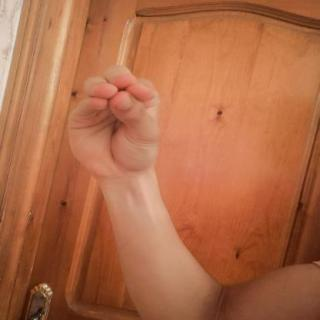HA: (51, 54, 181, 189)
